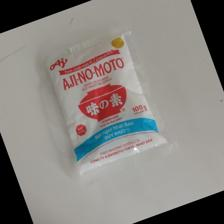Ajinomoto: (38, 27, 177, 180)
